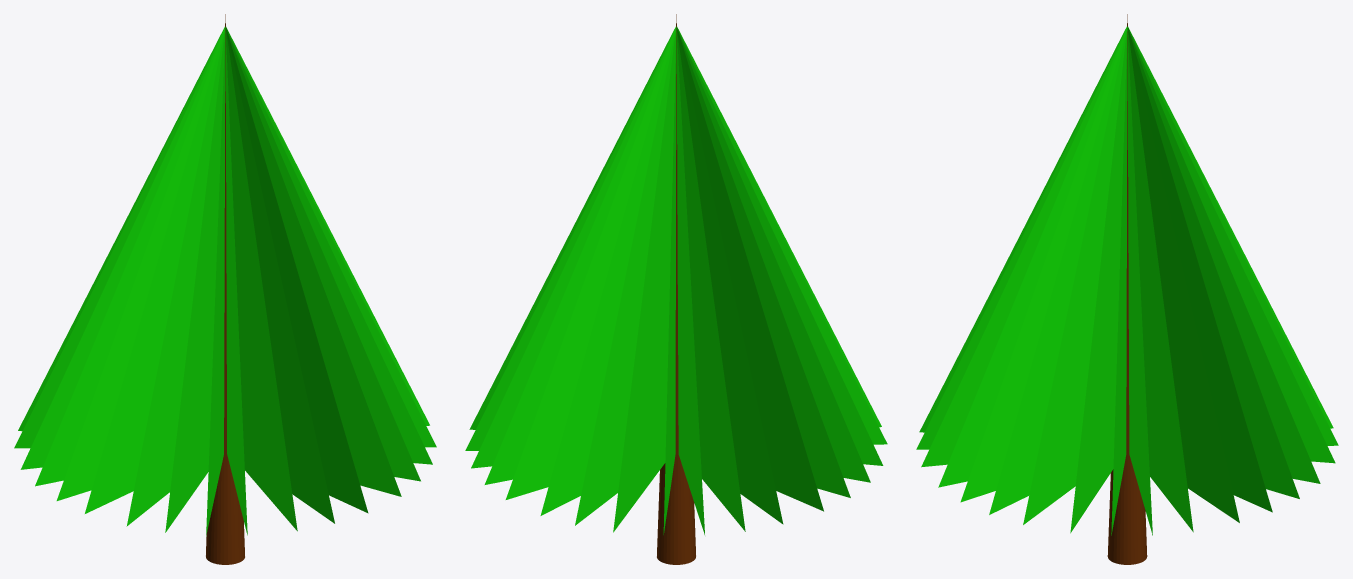
The model's file is tree.glb.
The picture shows the model from 3 angles, left to right: view 1: azimuth 30°, elevation 25°; view 2: azimuth 150°, elevation 25°; view 3: azimuth 270°, elevation 25°; orthographic projection.
Parts seen in each view (by area): view 1: leafs, tree; view 2: leafs, tree; view 3: leafs, tree.
Part boxes in pixels (left/top/right/bottom): leafs: left=14, top=27, right=436, bottom=536; tree: left=206, top=14, right=244, bottom=564; leafs: left=465, top=26, right=887, bottom=534; tree: left=657, top=14, right=695, bottom=564; leafs: left=916, top=26, right=1338, bottom=535; tree: left=1107, top=14, right=1147, bottom=564.
Size of the model in its own units: 7.04 by 10 by 7.06.
